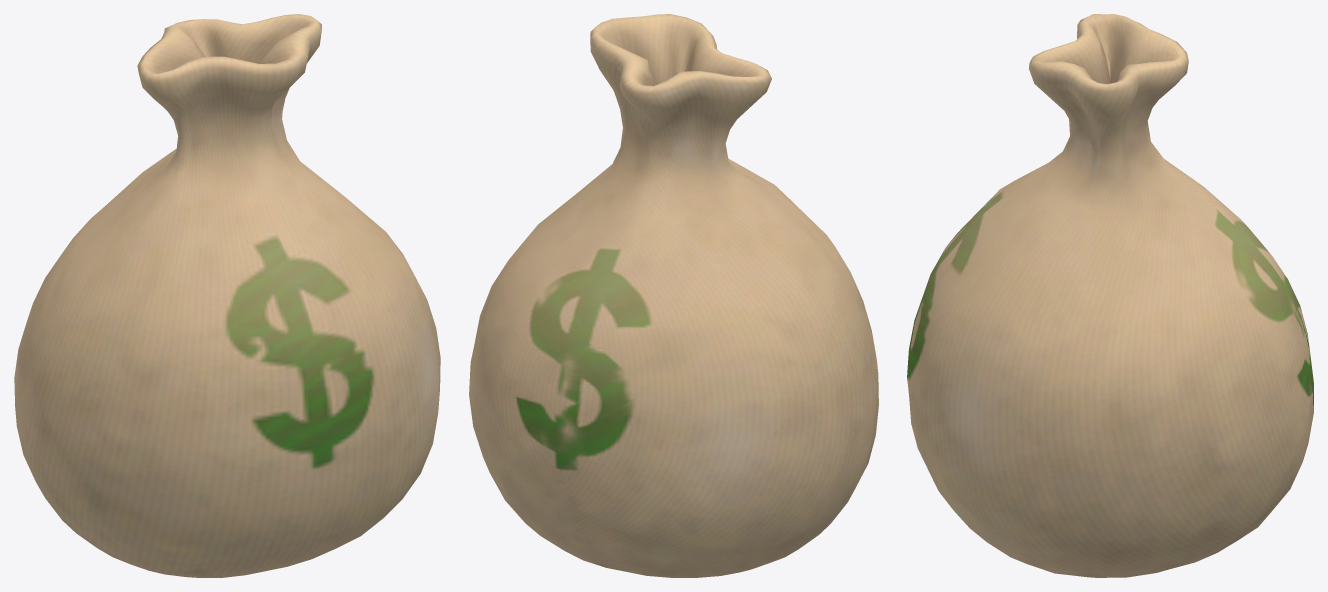
Rendered from bolsadinero.glb.
3 renders of one model, left to right at view 1: azimuth 30°, elevation 25°; view 2: azimuth 150°, elevation 25°; view 3: azimuth 270°, elevation 25°, orthographic. The views are drawn at different scales.
Parts seen in each view (by area): view 1: Object_4; view 2: Object_4; view 3: Object_4.
Part boxes in pixels (bbox=[...]): Object_4: bbox=[14, 14, 440, 577]; Object_4: bbox=[469, 14, 878, 577]; Object_4: bbox=[907, 14, 1313, 577].
Bounding box in the file's own units: 0.7028 × 0.9514 × 0.6849.
1 material, 1 textured.
